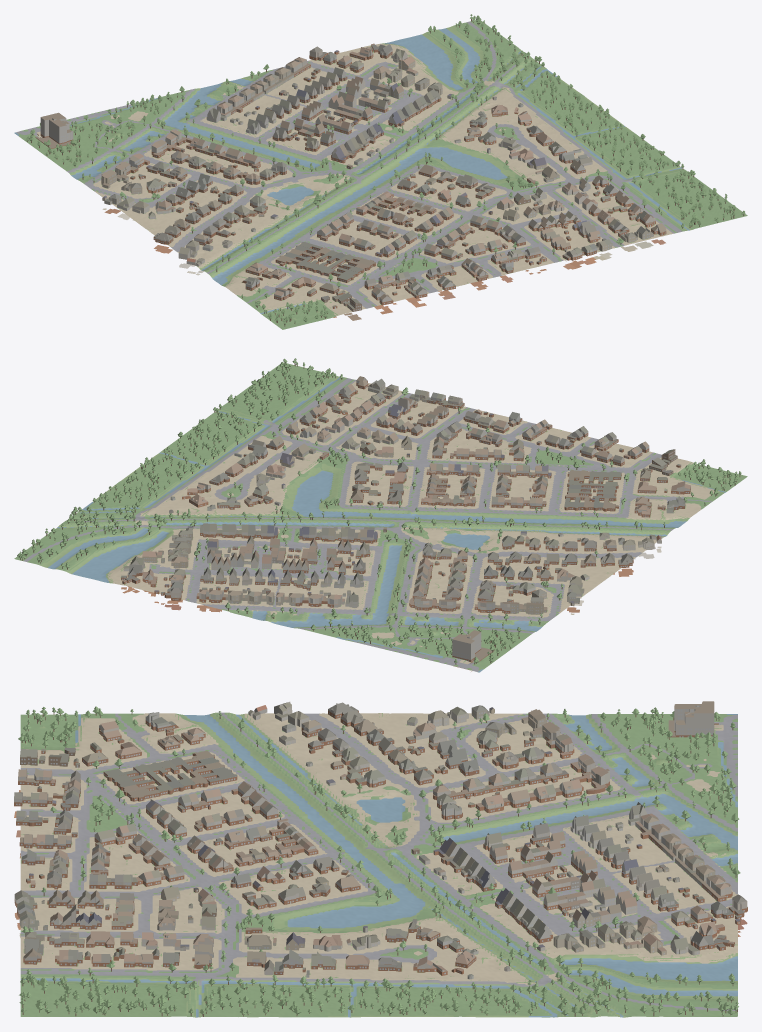
File: bosven-veghel_x334_y809.glb
3 views of the same model, one above another, from view 1: azimuth 30°, elevation 25°; view 2: azimuth 150°, elevation 25°; view 3: azimuth 270°, elevation 25° (orthographic). The views are drawn at different scales.
Parts seen in each view (by area): view 1: class:sand, class:wall, class:roof, class:green, class:road, class:grass, class:tree, class:water, class:trim, class:trunk; view 2: class:sand, class:roof, class:wall, class:green, class:road, class:grass, class:water, class:tree, class:trim, class:trunk; view 3: class:sand, class:roof, class:green, class:wall, class:road, class:grass, class:tree, class:water, class:trim, class:trunk.
Part boxes in pixels (left/top/right/bottom): class:sand: left=37, top=43, right=673, bottom=316; class:wall: left=35, top=44, right=666, bottom=320; class:roof: left=35, top=43, right=666, bottom=308; class:green: left=18, top=20, right=747, bottom=329; class:road: left=16, top=21, right=682, bottom=308; class:grass: left=18, top=25, right=695, bottom=319; class:tree: left=25, top=14, right=745, bottom=324; class:water: left=14, top=28, right=689, bottom=313; class:trim: left=41, top=49, right=665, bottom=310; class:trunk: left=27, top=19, right=744, bottom=326; class:sand: left=107, top=381, right=718, bottom=664; class:roof: left=121, top=376, right=690, bottom=662; class:wall: left=121, top=377, right=690, bottom=671; class:green: left=14, top=362, right=747, bottom=670; class:road: left=23, top=378, right=711, bottom=671; class:grass: left=38, top=376, right=732, bottom=670; class:water: left=48, top=377, right=725, bottom=672; class:tree: left=17, top=358, right=741, bottom=662; class:trim: left=122, top=380, right=688, bottom=661; class:trunk: left=20, top=362, right=740, bottom=664; class:sand: left=20, top=713, right=737, bottom=985; class:roof: left=14, top=701, right=747, bottom=976; class:green: left=20, top=712, right=737, bottom=1017; class:wall: left=14, top=702, right=747, bottom=979; class:road: left=20, top=712, right=737, bottom=1010; class:grass: left=20, top=712, right=737, bottom=1017; class:tree: left=18, top=706, right=740, bottom=1015; class:water: left=20, top=714, right=737, bottom=1017; class:trim: left=14, top=708, right=744, bottom=974; class:trunk: left=21, top=713, right=737, bottom=1016.
Size of the model in its own units: 509 by 28.56 by 512.
